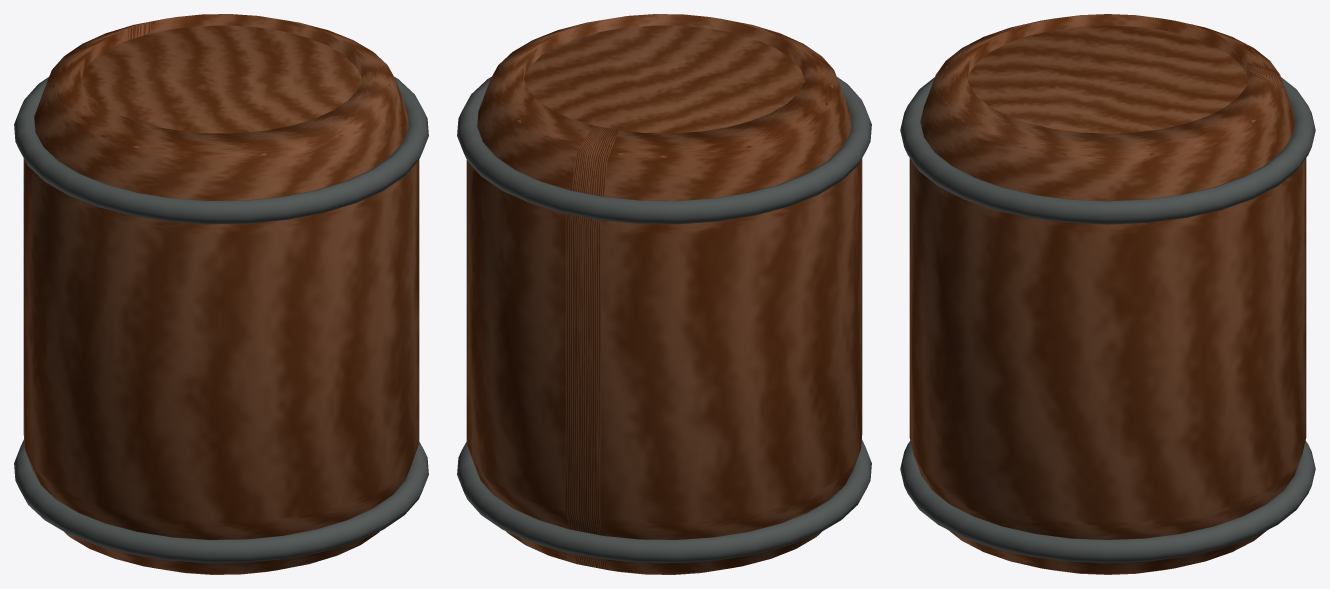
The model's file is Prop_Barrel_01_LOD0.fbx.
The picture shows the model from 3 angles, left to right: view 1: azimuth 30°, elevation 25°; view 2: azimuth 150°, elevation 25°; view 3: azimuth 270°, elevation 25°; orthographic projection.
Visible parts, largest first — view 1: Prop_Barrel_01_OPT_Merged_RB_Wood_Walnut_OPT_DATA, Prop_Barrel_01_OPT_Merged_RB_Steel_Blackened_OPT_DATA; view 2: Prop_Barrel_01_OPT_Merged_RB_Wood_Walnut_OPT_DATA, Prop_Barrel_01_OPT_Merged_RB_Steel_Blackened_OPT_DATA; view 3: Prop_Barrel_01_OPT_Merged_RB_Wood_Walnut_OPT_DATA, Prop_Barrel_01_OPT_Merged_RB_Steel_Blackened_OPT_DATA.
Boxes of the visible parts, x1,y1,x2,y2 form: Prop_Barrel_01_OPT_Merged_RB_Wood_Walnut_OPT_DATA: (23,14,419,574); Prop_Barrel_01_OPT_Merged_RB_Steel_Blackened_OPT_DATA: (14,77,428,563); Prop_Barrel_01_OPT_Merged_RB_Wood_Walnut_OPT_DATA: (466,14,862,574); Prop_Barrel_01_OPT_Merged_RB_Steel_Blackened_OPT_DATA: (457,77,871,563); Prop_Barrel_01_OPT_Merged_RB_Wood_Walnut_OPT_DATA: (909,14,1306,574); Prop_Barrel_01_OPT_Merged_RB_Steel_Blackened_OPT_DATA: (900,77,1315,563).
Size of the model in its own units: 73.4 by 86 by 73.4.
Materials: 2 (1 with a texture image).
